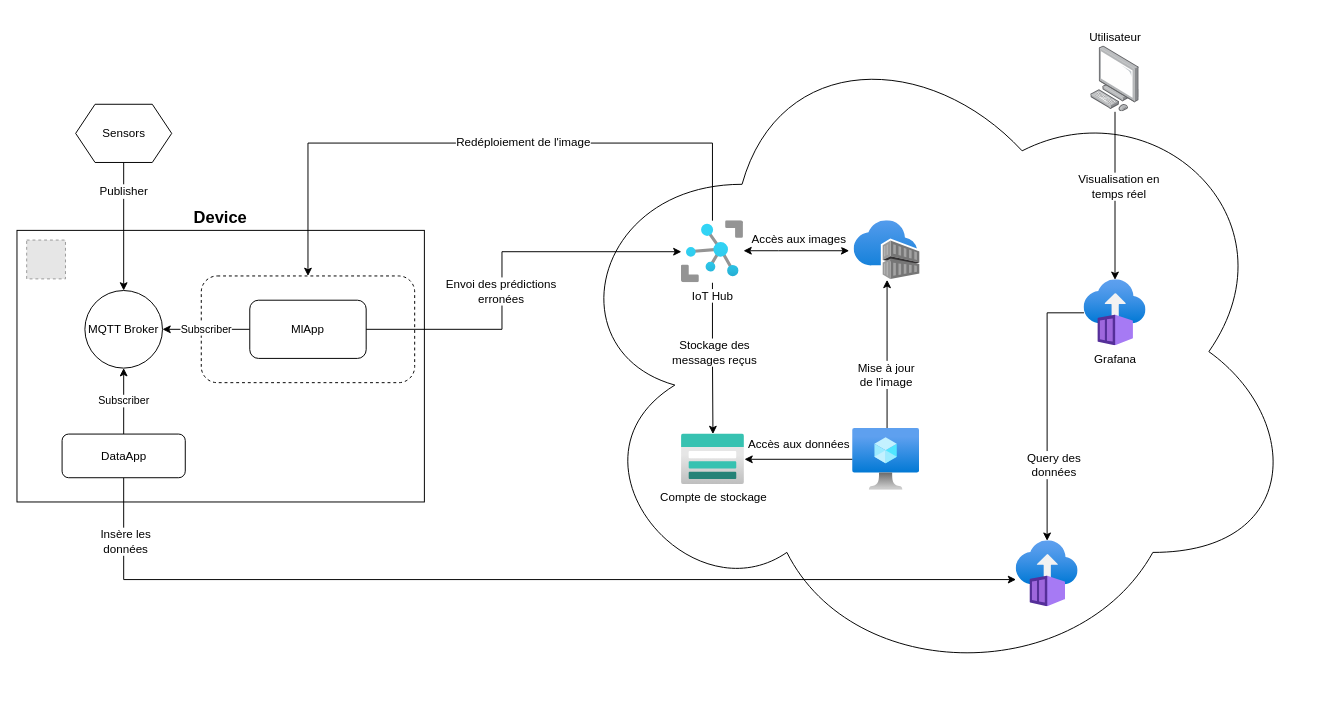
Some shapes in this 1319 by 703 pixel diagram are drawn without their labels. Grey dashed boxes stand in for pictures. Each missing label, with the box of its shape:
Container Docker: (200, 275, 415, 383)
InfluxDB: (1016, 540, 1078, 606)
Machine virtuelle: (852, 428, 919, 490)
Registre de conteneurs: (854, 220, 920, 279)
